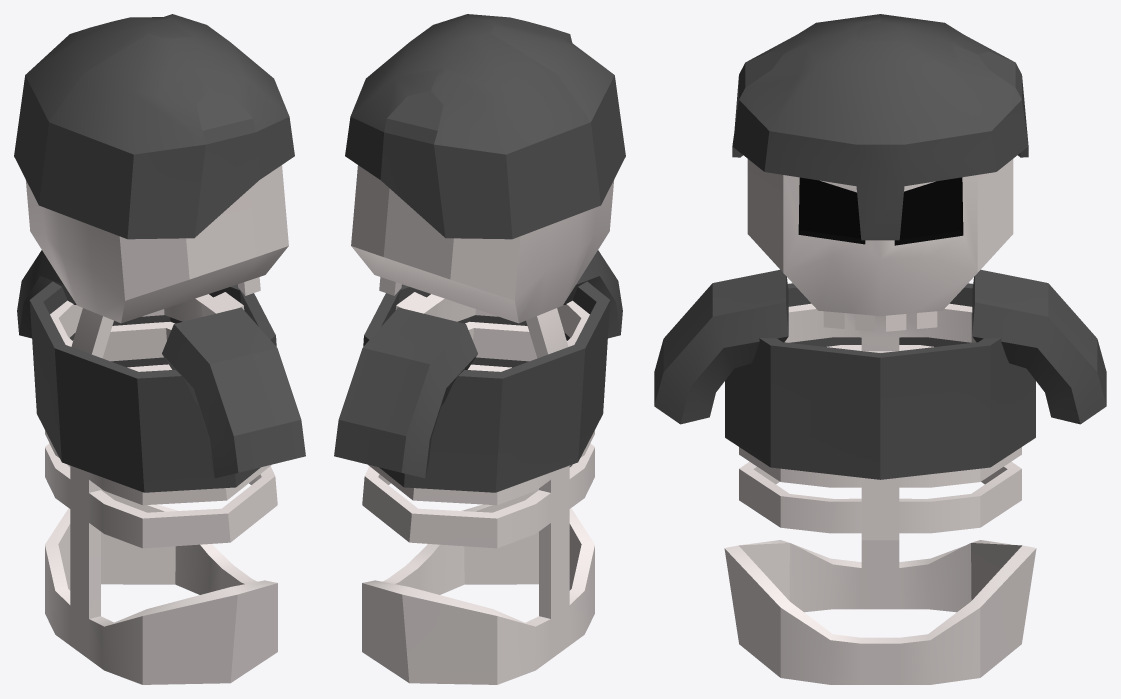
The model's file is Skeleton3.obj.
3 views of the same model, side by side, from view 1: azimuth 30°, elevation 25°; view 2: azimuth 150°, elevation 25°; view 3: azimuth 270°, elevation 25° (orthographic). The views are drawn at different scales.
Visible parts, largest first — view 1: Skeleton.003; view 2: Skeleton.003; view 3: Skeleton.003.
Boxes of the visible parts, box(x1,y1,x2,y2) form: Skeleton.003: box(14, 14, 305, 684); Skeleton.003: box(334, 14, 625, 684); Skeleton.003: box(654, 14, 1106, 684).
Size of the model in its own units: 1.93 by 4.81 by 3.2.
